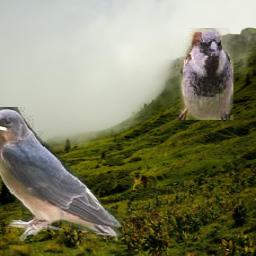Sparrow: (179, 28, 233, 120)
Swallow: (0, 107, 123, 241)
